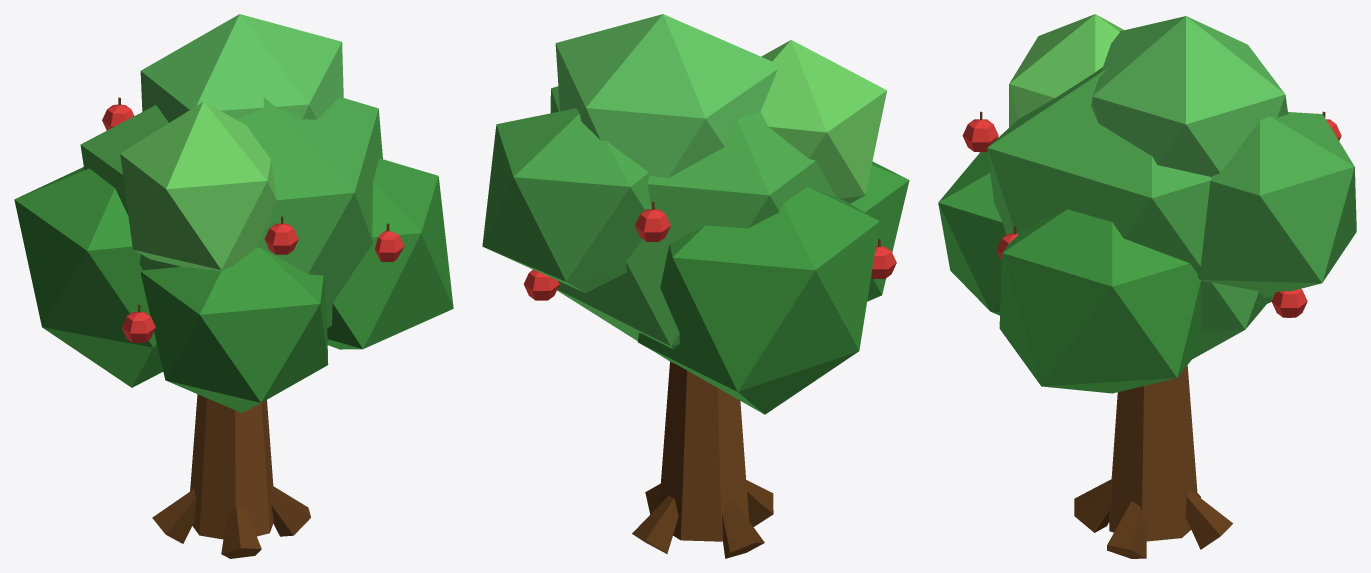
Rendered from apfelbaum.glb.
3 renders of one model, left to right at view 1: azimuth 30°, elevation 25°; view 2: azimuth 150°, elevation 25°; view 3: azimuth 270°, elevation 25°, orthographic. The views are drawn at different scales.
Parts seen in each view (by area): view 1: laub, stamm; view 2: laub, stamm; view 3: laub, stamm.
Boxes of the visible parts, box(x1,y1,x2,y2) form: laub: box(14, 14, 453, 412); stamm: box(152, 394, 310, 558); laub: box(482, 14, 909, 414); stamm: box(632, 361, 773, 558); laub: box(938, 14, 1356, 393); stamm: box(1074, 365, 1232, 558).
Bounding box in the file's own units: 3.83 × 5.21 × 3.69.
